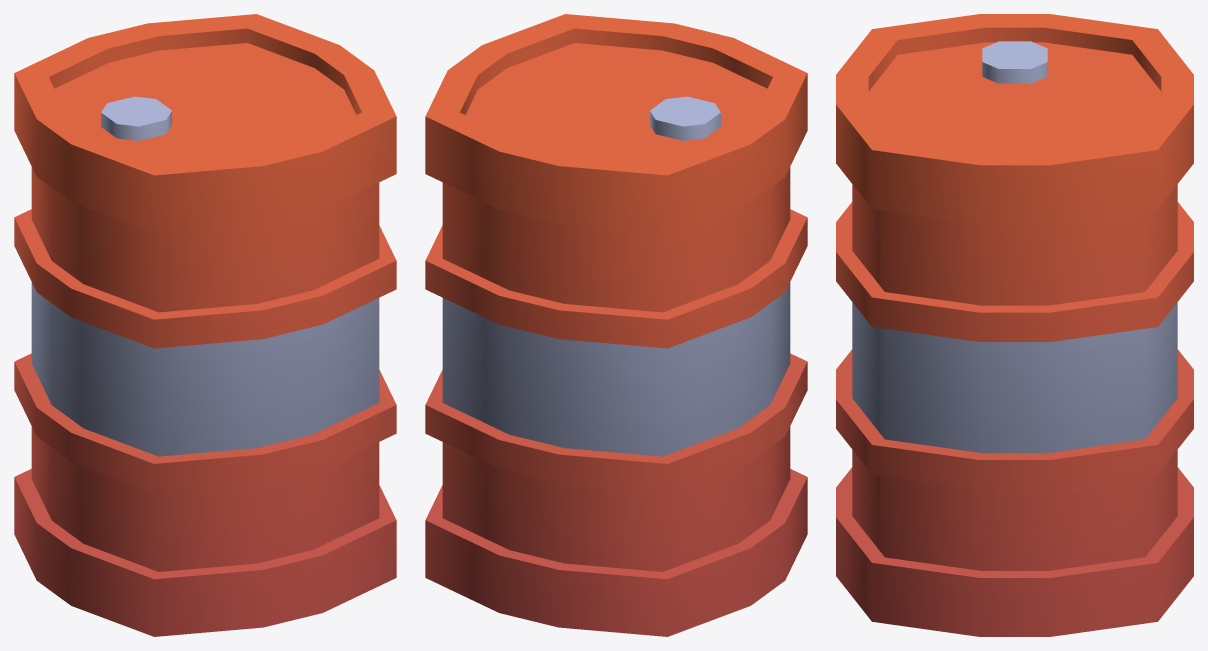
File: barrel.obj
3 views of the same model, side by side, from view 1: azimuth 30°, elevation 25°; view 2: azimuth 150°, elevation 25°; view 3: azimuth 270°, elevation 25° (orthographic). The views are drawn at different scales.
Parts seen in each view (by area): view 1: barrel; view 2: barrel; view 3: barrel.
Boxes of the visible parts, left/top/right/bottom form: barrel: left=14, top=14, right=396, bottom=636; barrel: left=425, top=14, right=807, bottom=636; barrel: left=836, top=14, right=1193, bottom=636.
Bounding box in the file's own units: 0.2365 × 0.344 × 0.2365.
1 material, 1 textured.
